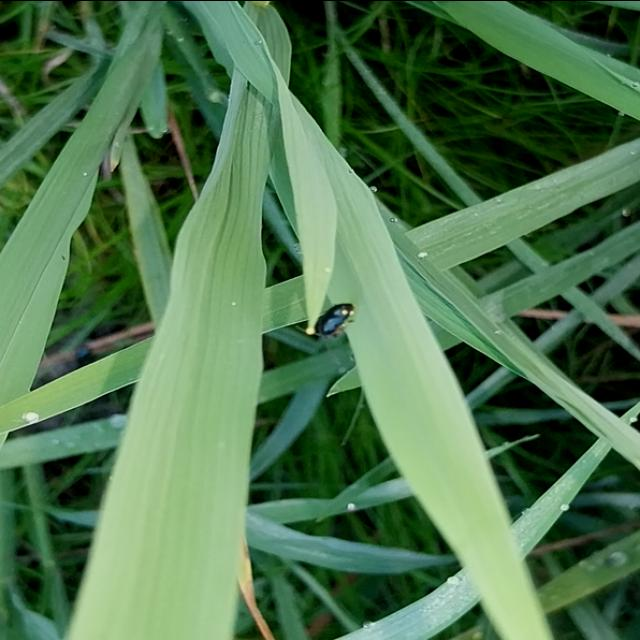Hawar Daun Bakteri: (223, 505, 297, 640), (517, 293, 640, 334), (164, 100, 202, 202)
